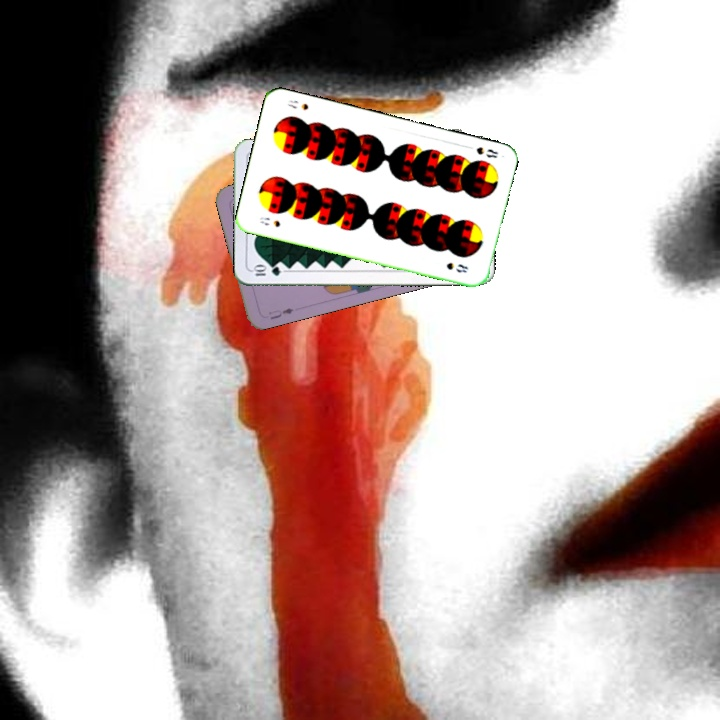EU: (266, 304, 296, 322)
G10: (249, 263, 284, 278)
S8: (472, 143, 500, 161), (256, 213, 283, 229)
